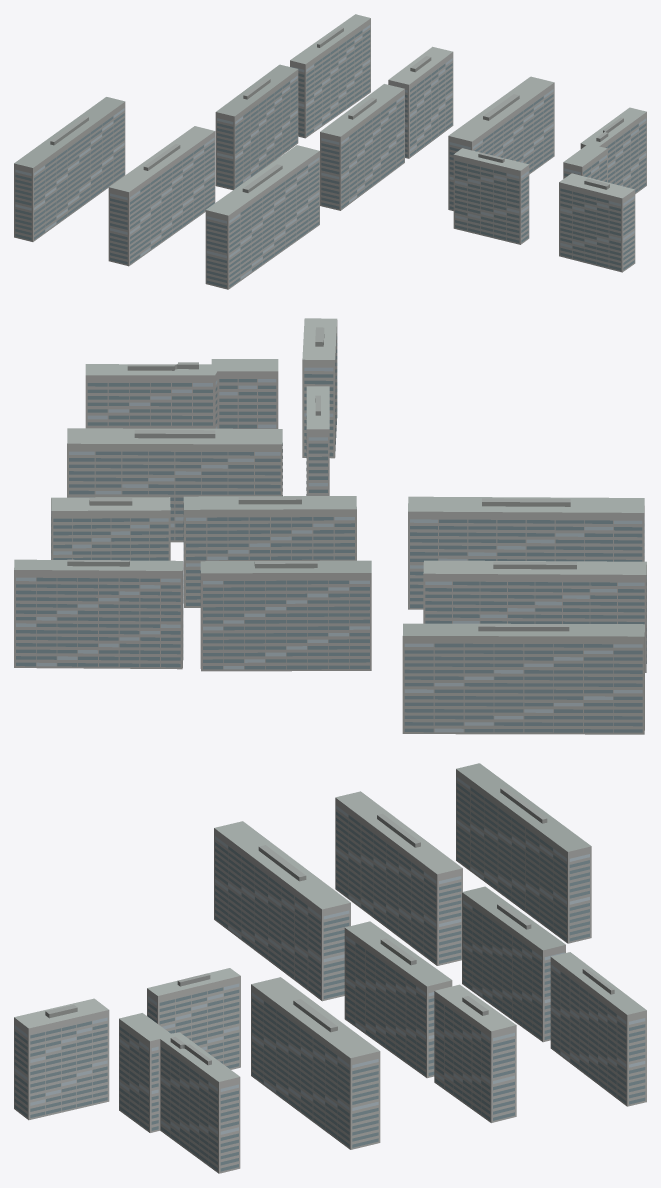
The model's file is apt-a13583604.glb.
3 renders of one model, top to bottom at view 1: azimuth 30°, elevation 25°; view 2: azimuth 150°, elevation 25°; view 3: azimuth 270°, elevation 25°, orthographic. The views are drawn at different scales.
Parts seen in each view (by area): view 1: apt-a13583604; view 2: apt-a13583604; view 3: apt-a13583604.
Boxes of the visible parts, x1,y1,x2,y2 form: apt-a13583604: [14, 14, 646, 289]; apt-a13583604: [14, 318, 646, 734]; apt-a13583604: [14, 763, 646, 1173].
Size of the model in its own units: 341 by 47.81 by 286.
